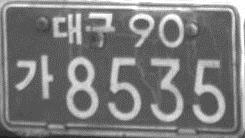0: (158, 12, 186, 49)
3: (149, 56, 184, 122)
5: (191, 56, 228, 125), (107, 55, 142, 122)
8: (64, 55, 99, 119)
9: (127, 12, 155, 48)
가: (13, 53, 55, 102)
대구_O: (51, 10, 117, 51)
